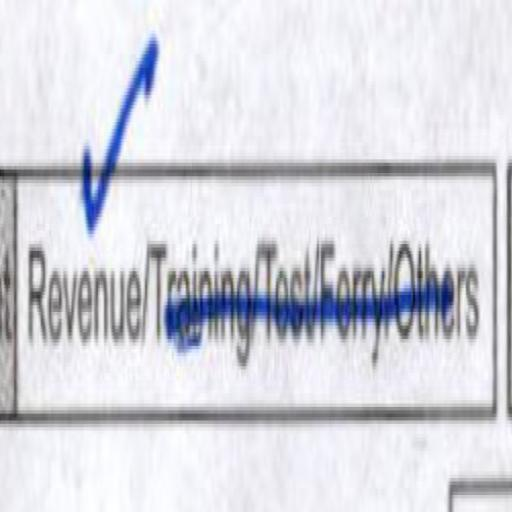check: (11, 0, 147, 422)
